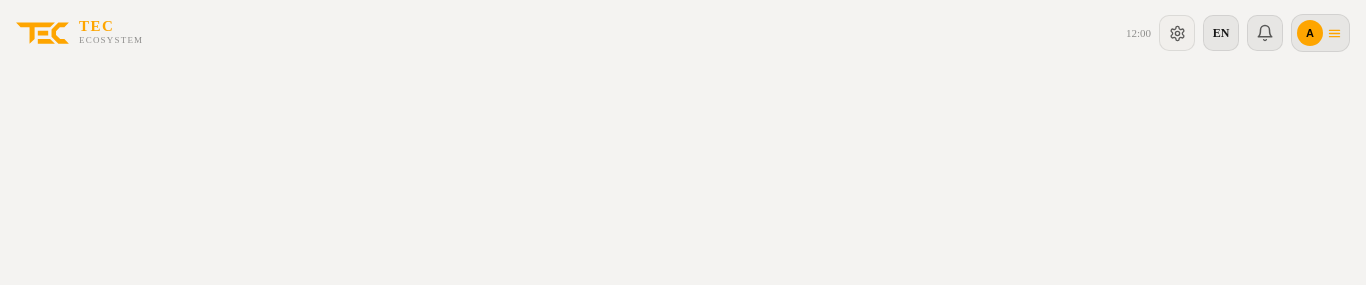
Test: HubHeader › renders the time, and the handle only once the menu is open
The image size is (1366, 285).
Expected: the text "@alice" is not shown
Click the button named "Your account": (1320, 33) [1291,14,1350,52]
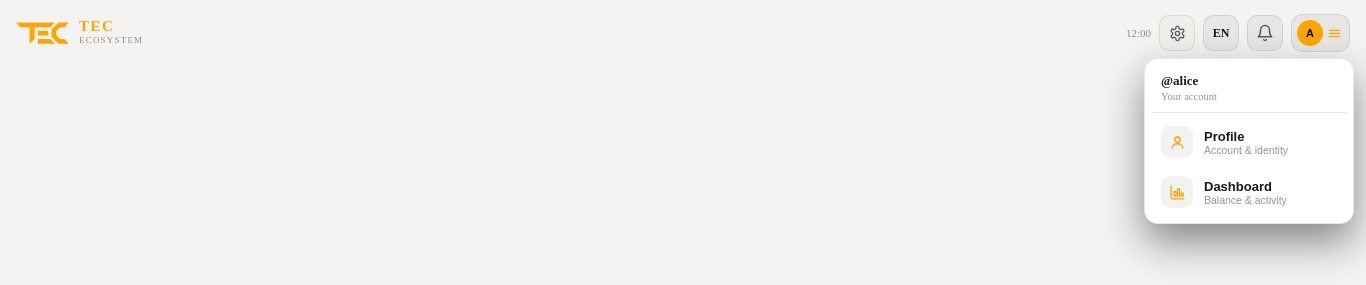
Now the text "@alice" is shown, box [1161,73,1198,88]
